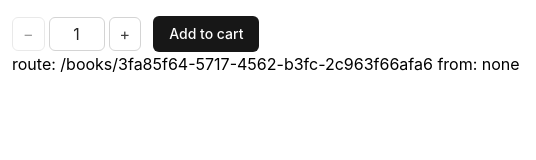
AddToCartButton › addToCartButton_whenSignedInAddClicked_postsBookIdWithDefaultQuantity
The width and height of the screenshot is (536, 160).
Click the button "Add to cart".
click(206, 34)  # box left=153, top=16, right=260, bottom=52
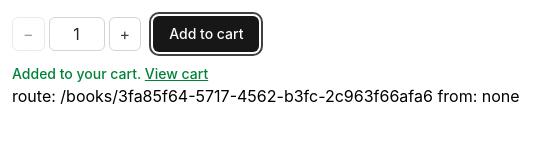
Now the text "Added to your cart. View cart" is shown, box left=12, top=65, right=208, bottom=82
